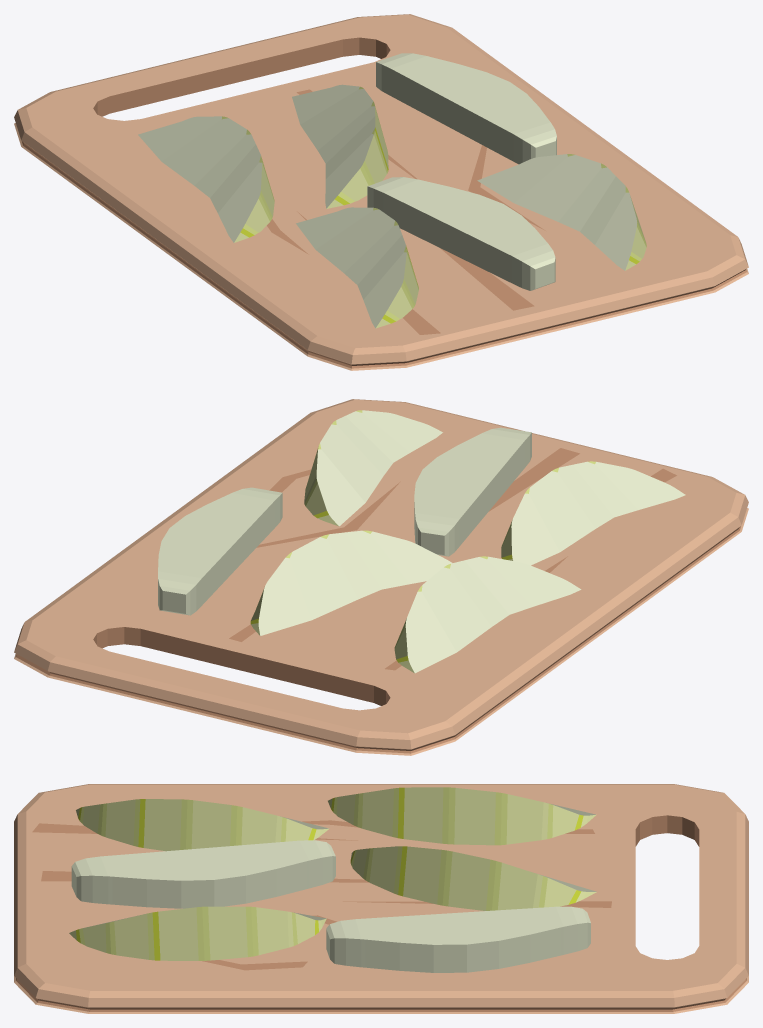
The model's file is Mango ingre.glb.
3 renders of one model, top to bottom at view 1: azimuth 30°, elevation 25°; view 2: azimuth 150°, elevation 25°; view 3: azimuth 270°, elevation 25°, orthographic. The views are drawn at different scales.
Parts seen in each view (by area): view 1: Cube, Sphere.001; view 2: Cube, Sphere.001; view 3: Cube, Sphere.001.
Part boxes in pixels (bbox=[...]): Cube: bbox=[14, 14, 748, 370]; Sphere.001: bbox=[138, 53, 646, 328]; Cube: bbox=[14, 399, 748, 755]; Sphere.001: bbox=[158, 410, 685, 673]; Cube: bbox=[14, 784, 748, 1013]; Sphere.001: bbox=[69, 787, 596, 972].
Size of the model in its own units: 0.6274 by 0.0927 by 0.8985.
